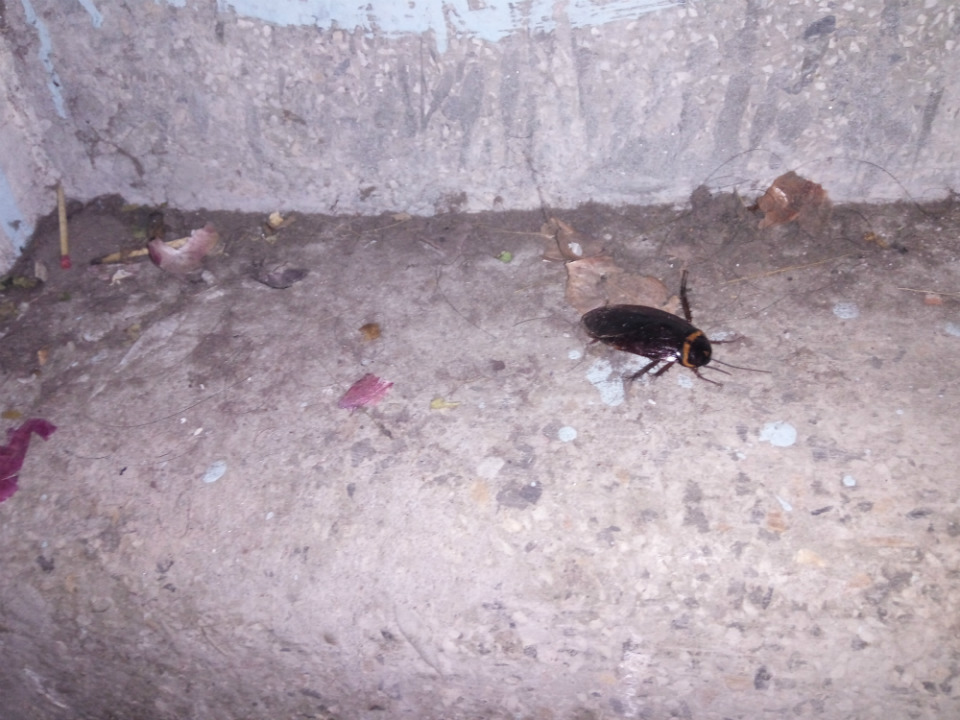cockroach: (460, 196, 821, 420)
